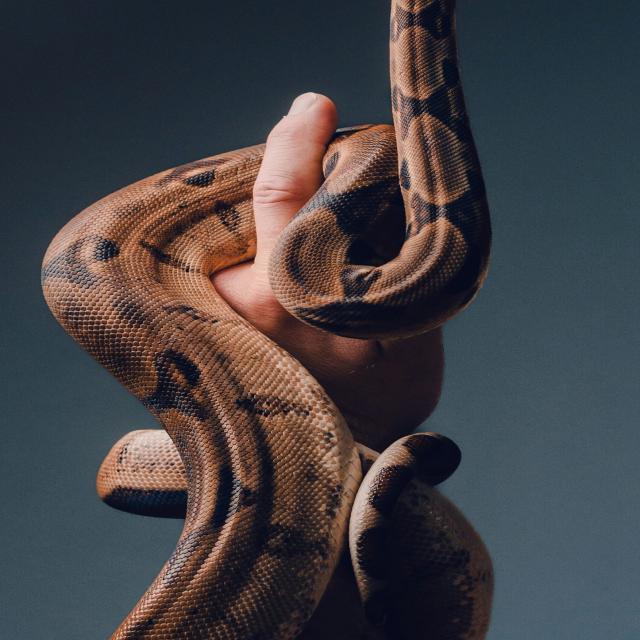snake: (29, 0, 499, 640)
